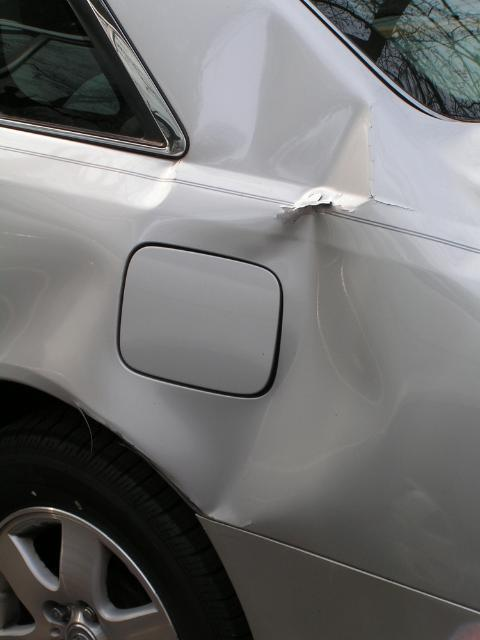dent: (147, 10, 480, 521), (0, 224, 114, 367)
